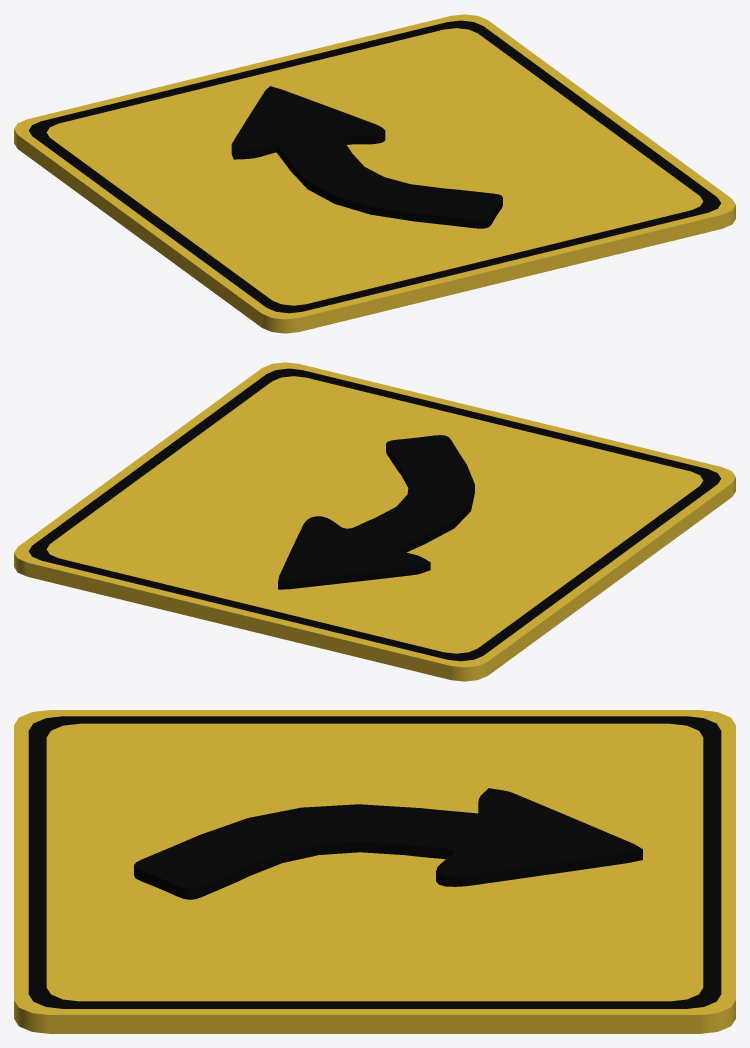
The model's file is right_curve_sign.fbx.
3 renders of one model, top to bottom at view 1: azimuth 30°, elevation 25°; view 2: azimuth 150°, elevation 25°; view 3: azimuth 270°, elevation 25°, orthographic. The views are drawn at different scales.
Visible parts, largest first — view 1: square_yellow_sign, RightCurve; view 2: square_yellow_sign, RightCurve; view 3: square_yellow_sign, RightCurve.
Boxes of the visible parts, x1,y1,x2,y2 form: square_yellow_sign: (14, 14, 735, 333); RightCurve: (231, 86, 502, 228); square_yellow_sign: (14, 362, 735, 681); RightCurve: (278, 435, 474, 589); square_yellow_sign: (14, 710, 735, 1033); RightCurve: (134, 788, 642, 899).
Bounding box in the file's own units: 70.96 × 3.2 × 70.96.
